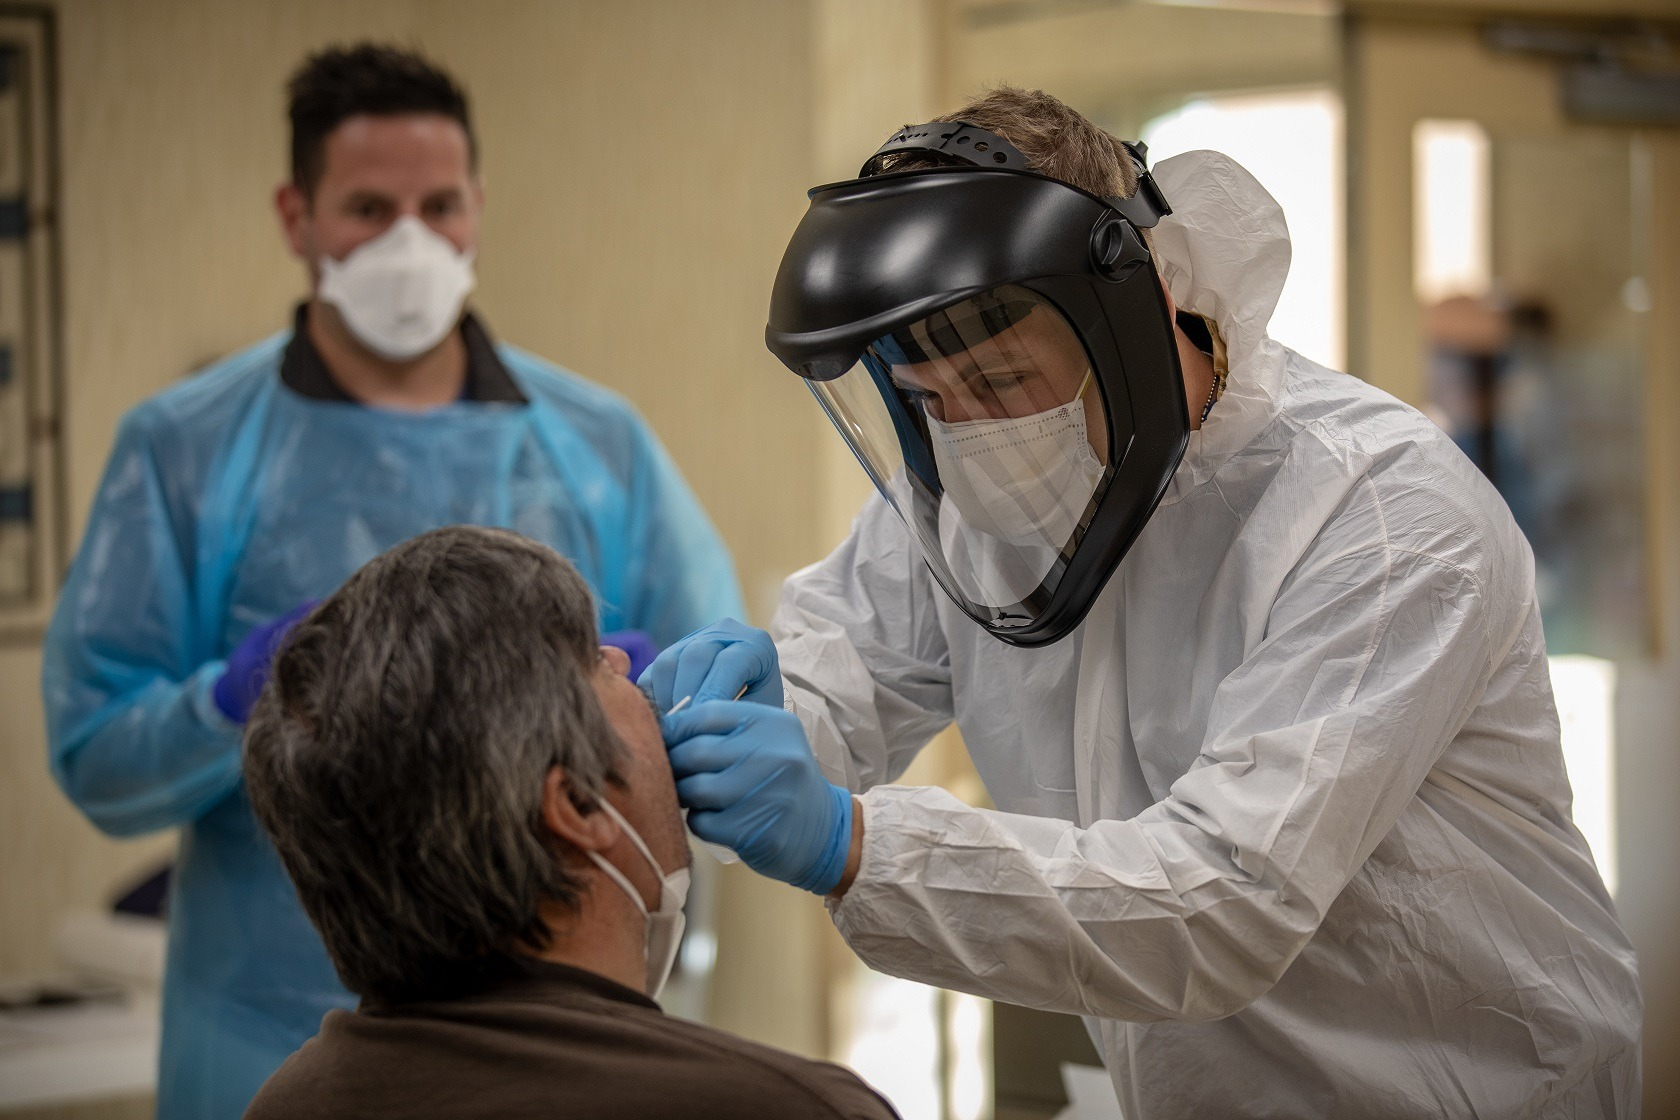Coverall: (45, 342, 752, 1106), (857, 371, 1579, 1120)
Face_Shield: (768, 186, 1174, 629)
Gloves: (657, 687, 879, 902), (617, 607, 787, 731)
mask_weared_incorrect: (572, 647, 703, 1007)
with_mask: (901, 344, 1096, 544), (314, 178, 474, 362)
